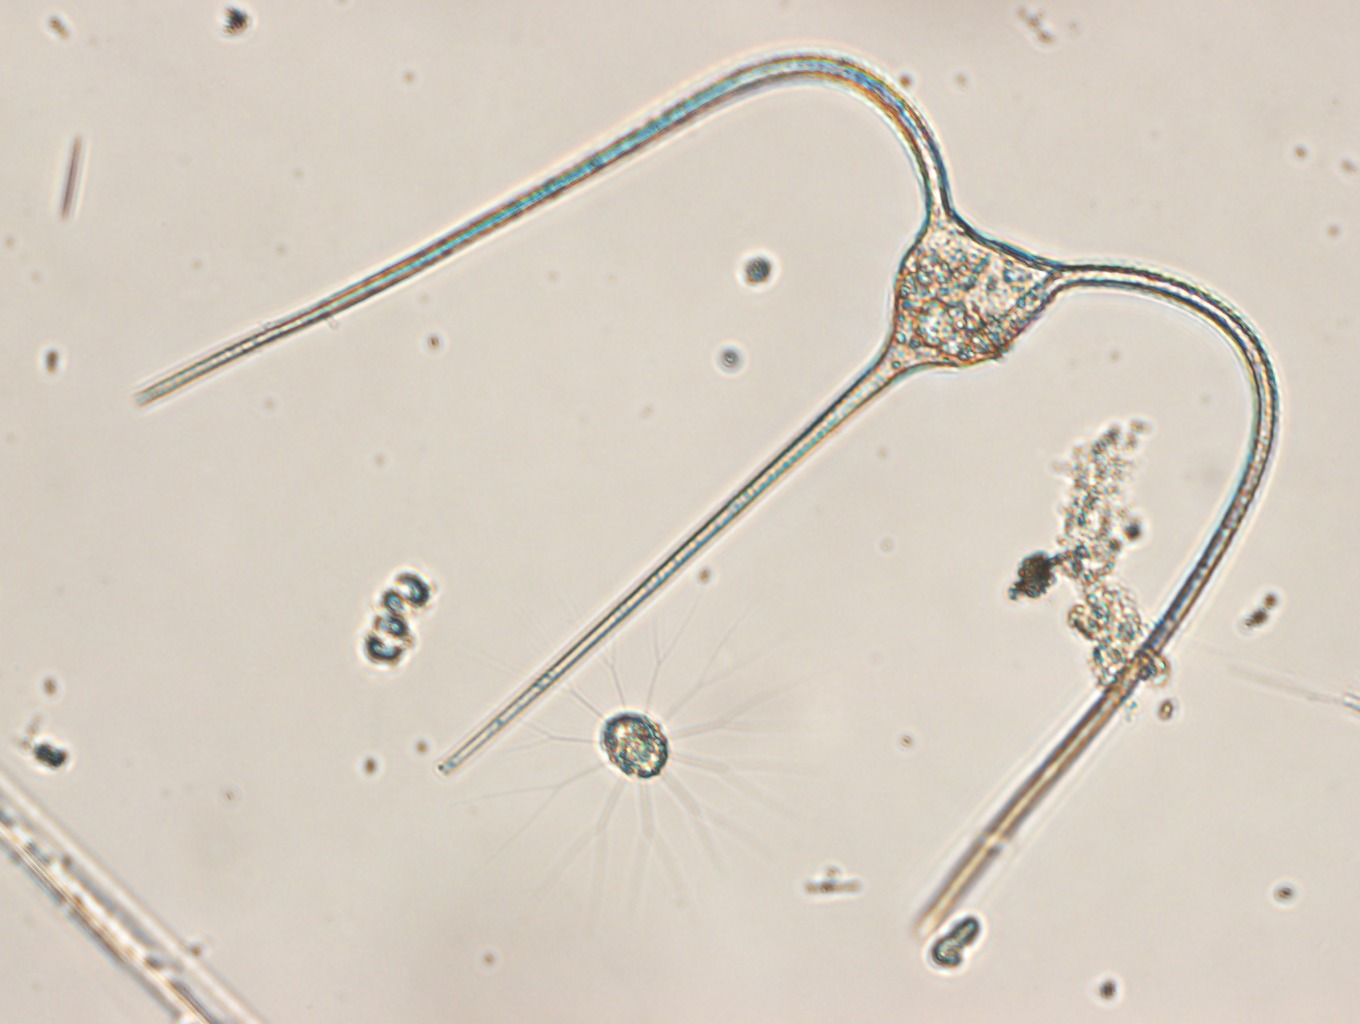bacteriastrum: (484, 597, 800, 922)
ceratium trichoceros: (131, 53, 1277, 959)
